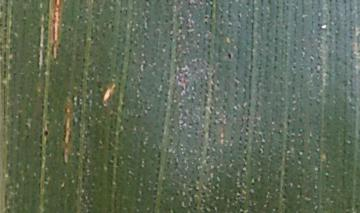tarspot: (41, 126, 52, 140), (226, 50, 233, 61)
